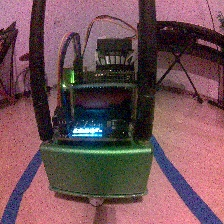rob: (38, 35, 154, 206)
